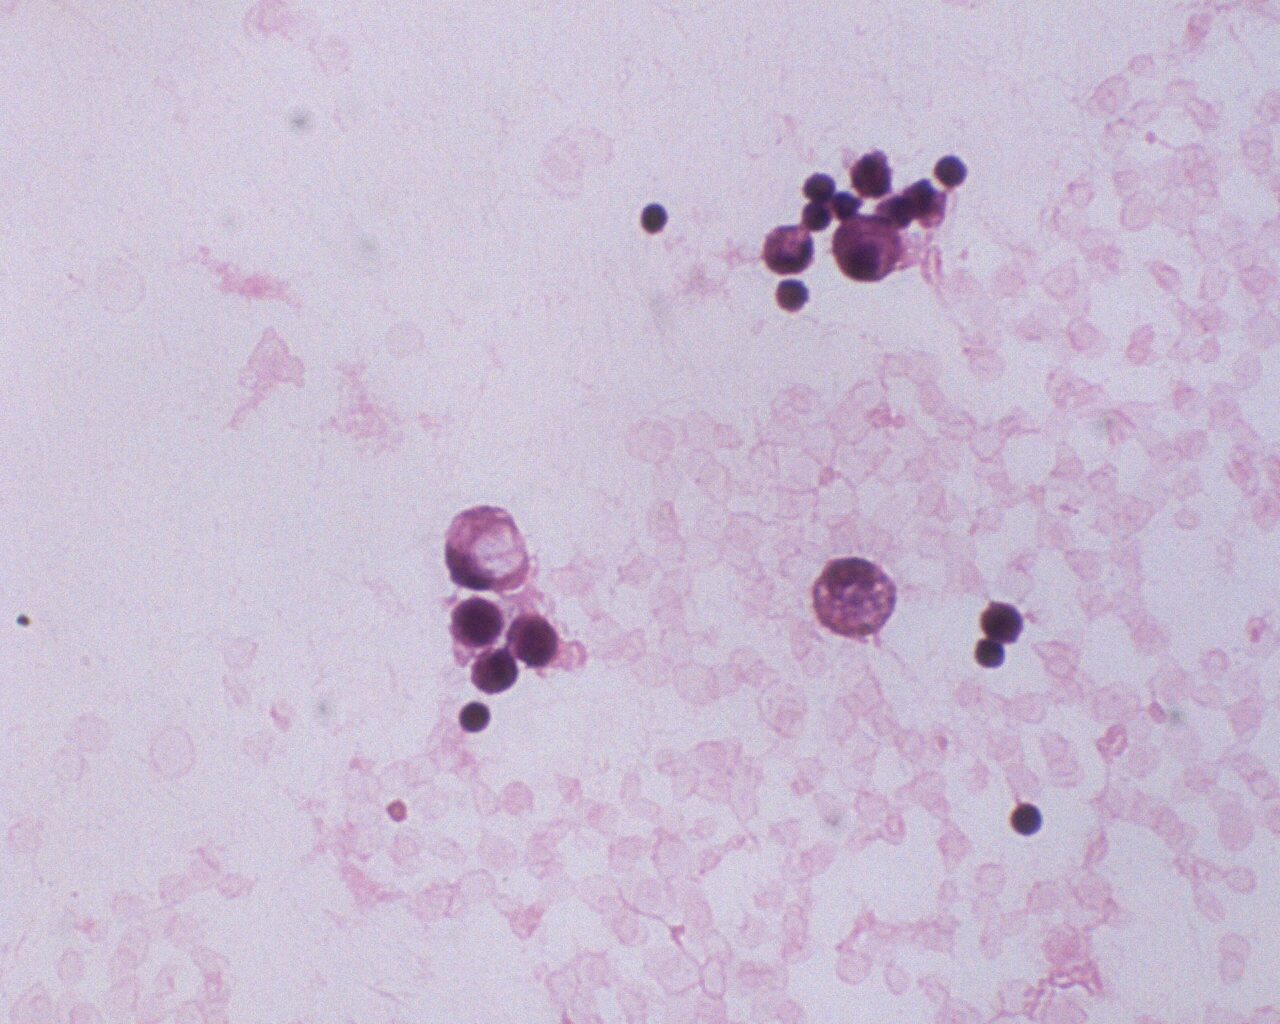ab: (504, 606, 561, 675), (442, 595, 504, 652)
histo: (441, 497, 532, 597)
lymph: (927, 150, 976, 195), (455, 698, 498, 738), (773, 273, 812, 318), (1007, 796, 1045, 841), (631, 197, 672, 238)
meso: (828, 211, 904, 287)
